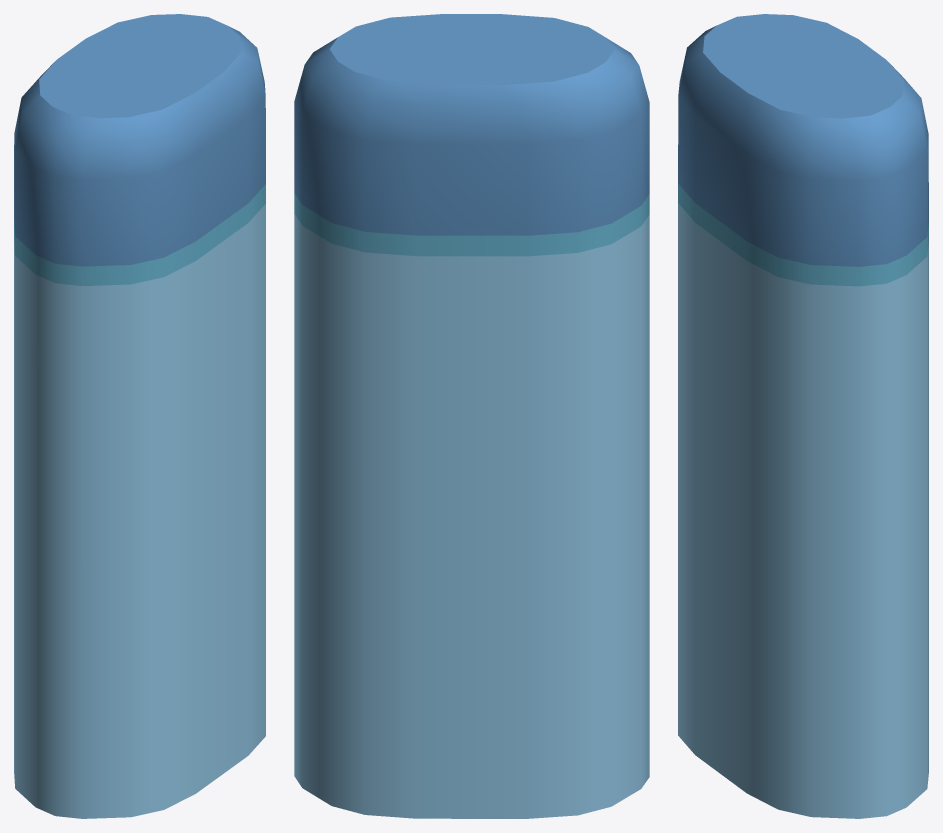
File: Shampoo1.fbx
3 views of the same model, side by side, from view 1: azimuth 30°, elevation 25°; view 2: azimuth 150°, elevation 25°; view 3: azimuth 270°, elevation 25° (orthographic). The views are drawn at different scales.
Parts seen in each view (by area): view 1: Shampoo; view 2: Shampoo; view 3: Shampoo.
Boxes of the visible parts, bbox=[...] form: Shampoo: bbox=[14, 14, 265, 818]; Shampoo: bbox=[294, 14, 649, 818]; Shampoo: bbox=[678, 14, 928, 818].
Bounding box in the file's own units: 9.01 × 7.39 × 22.38.
